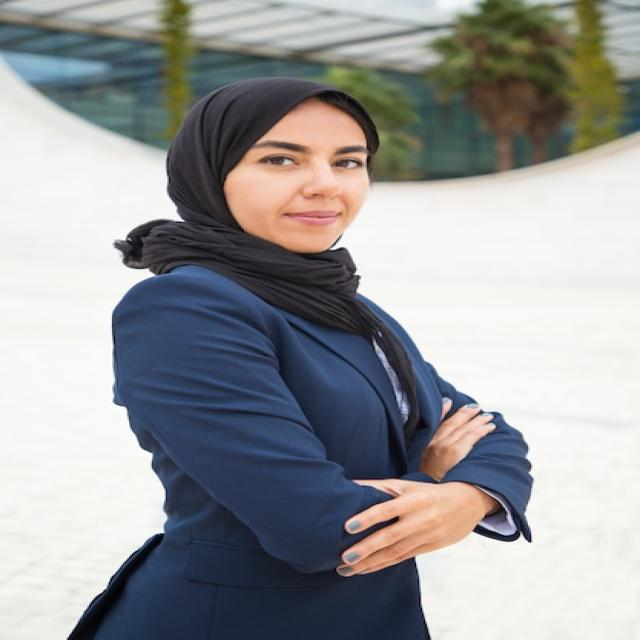Person: (70, 76, 531, 640)
